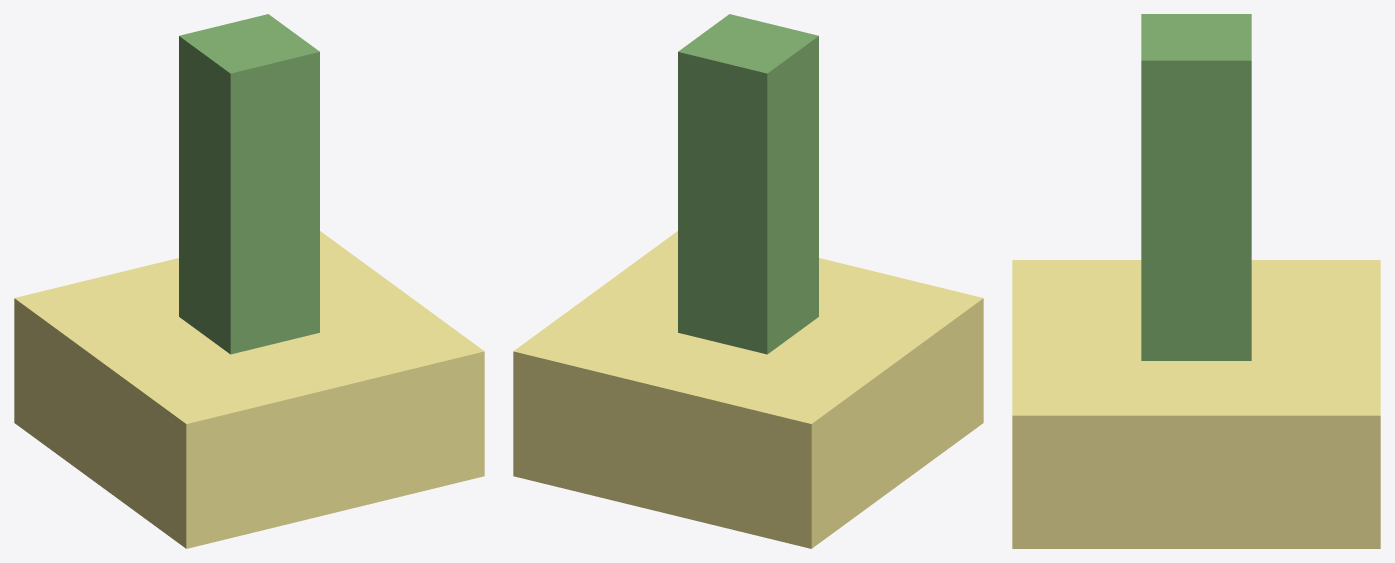
File: Item_DS_Herb_ParityPetal.glb
The picture shows the model from 3 angles, left to right: view 1: azimuth 30°, elevation 25°; view 2: azimuth 150°, elevation 25°; view 3: azimuth 270°, elevation 25°; orthographic projection. The views are drawn at different scales.
Parts seen in each view (by area): view 1: Cube, Cube.001; view 2: Cube, Cube.001; view 3: Cube, Cube.001.
Boxes of the visible parts, left/top/right/bottom form: Cube: left=14, top=231, right=484, bottom=548; Cube.001: left=179, top=14, right=319, bottom=354; Cube: left=513, top=231, right=983, bottom=548; Cube.001: left=678, top=14, right=818, bottom=354; Cube: left=1012, top=260, right=1380, bottom=548; Cube.001: left=1141, top=14, right=1251, bottom=360.
Bounding box in the file's own units: 0.2 × 0.26 × 0.2.
